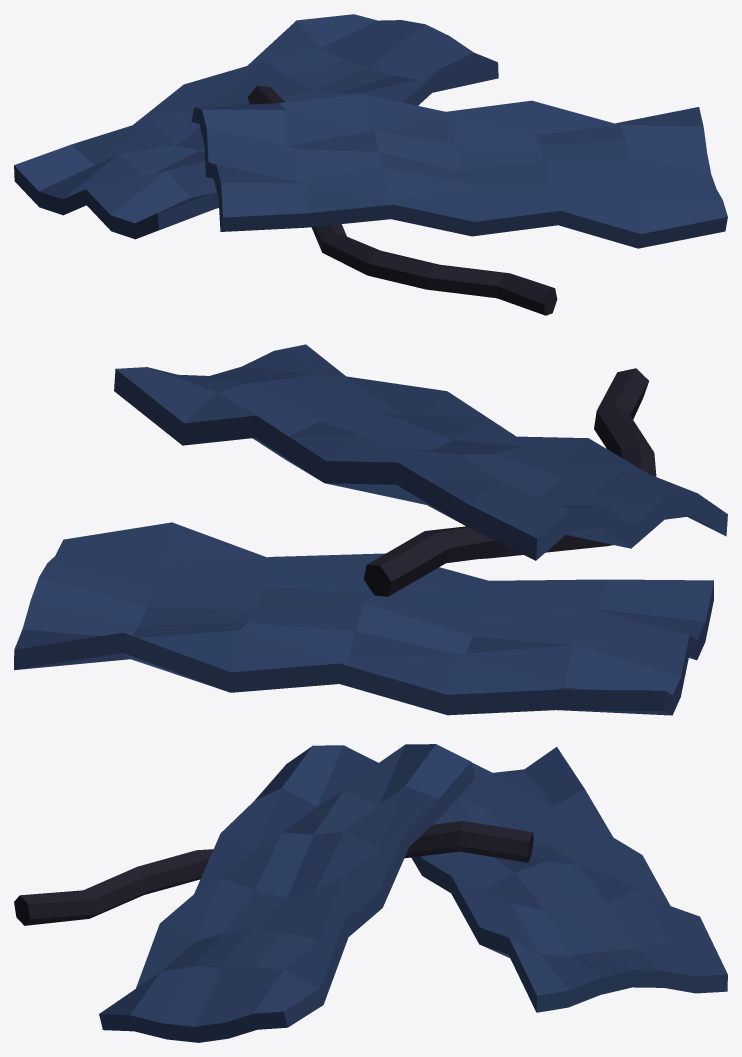
The model's file is scrap.gltf.
The picture shows the model from 3 angles, top to bottom: view 1: azimuth 30°, elevation 25°; view 2: azimuth 150°, elevation 25°; view 3: azimuth 270°, elevation 25°; orthographic projection. The views are drawn at different scales.
Visible parts, largest first — view 1: Cube.000, Cube.001, Cylinder; view 2: Cube.001, Cube.000, Cylinder; view 3: Cube.000, Cube.001, Cylinder.
Boxes of the visible parts, x1,y1,x2,y2 form: Cube.000: (191,94,727,248); Cube.001: (14,14,498,239); Cylinder: (247,85,557,315); Cube.001: (14,522,713,715); Cube.000: (114,344,727,560); Cylinder: (363,368,656,596); Cube.000: (99,744,474,1042); Cube.001: (411,747,727,1012); Cylinder: (14,821,533,925).
Size of the model in its own units: 6.85 by 1.27 by 7.28.
